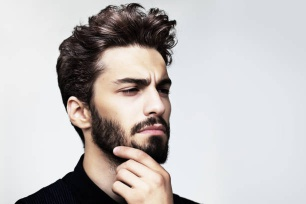male: (55, 12, 182, 168)
